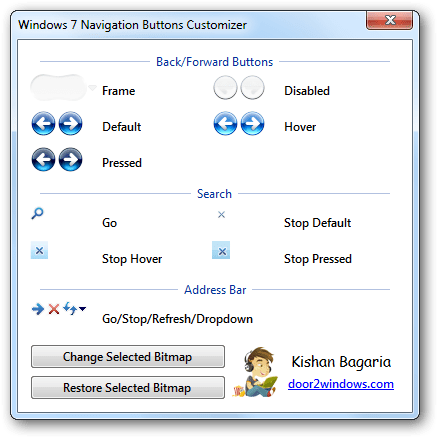close: (366, 9, 414, 31)
